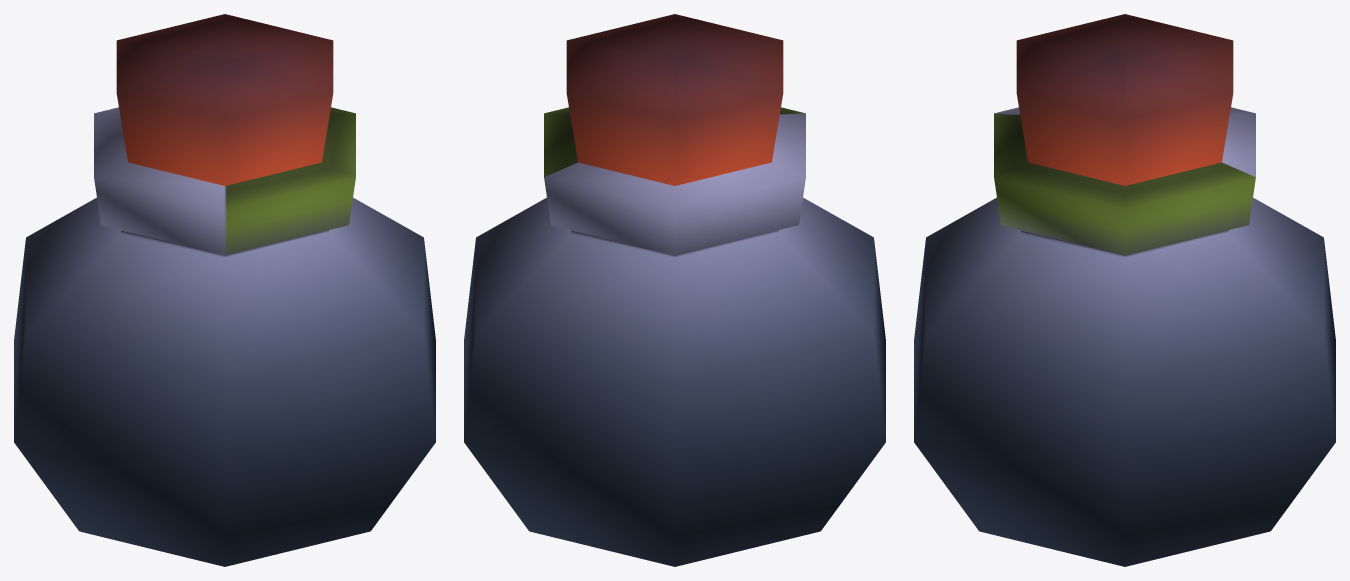
The model's file is Potion03.fbx.
3 views of the same model, side by side, from view 1: azimuth 30°, elevation 25°; view 2: azimuth 150°, elevation 25°; view 3: azimuth 270°, elevation 25° (orthographic).
Parts seen in each view (by area): view 1: Potion03; view 2: Potion03; view 3: Potion03.
Boxes of the visible parts, x1,y1,x2,y2 form: Potion03: (14, 14, 435, 566); Potion03: (464, 14, 885, 566); Potion03: (914, 14, 1335, 566).
Size of the model in its own units: 41.22 by 42.84 by 35.7.
